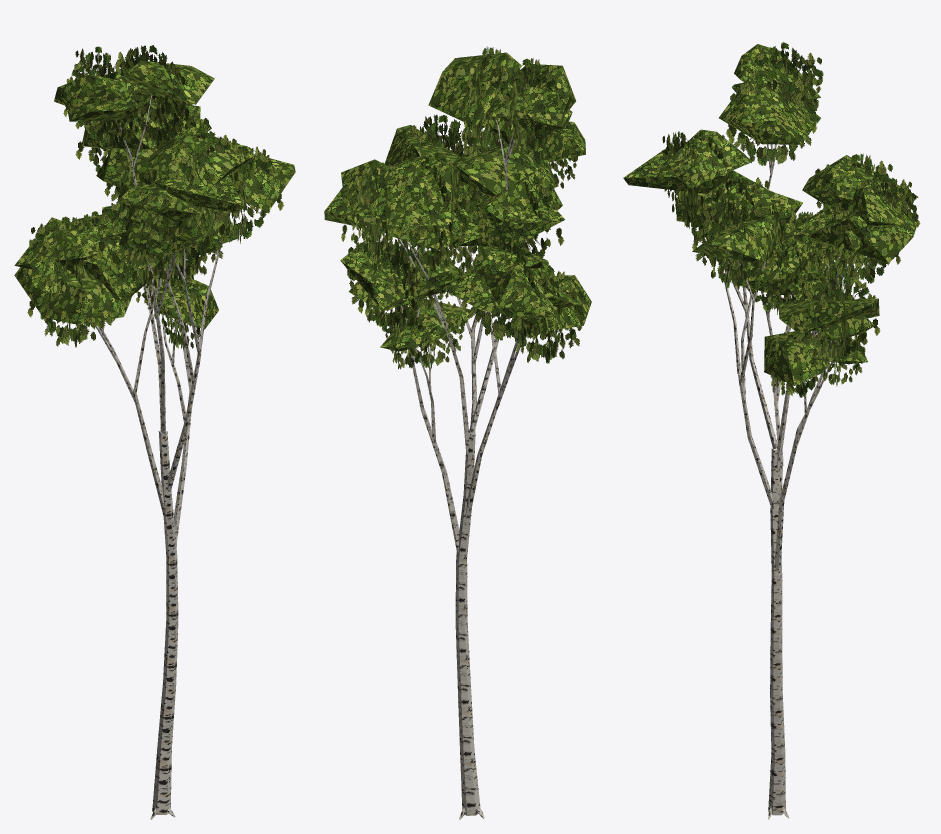
The model's file is TREE_Birch_01.glb.
The picture shows the model from 3 angles, left to right: view 1: azimuth 30°, elevation 25°; view 2: azimuth 150°, elevation 25°; view 3: azimuth 270°, elevation 25°; orthographic projection. The views are drawn at different scales.
Parts seen in each view (by area): view 1: TREE_Birch_01; view 2: TREE_Birch_01; view 3: TREE_Birch_01.
Boxes of the visible parts, x1,y1,x2,y2 form: TREE_Birch_01: (14, 45, 295, 819); TREE_Birch_01: (324, 46, 591, 819); TREE_Birch_01: (623, 42, 920, 819).
Size of the model in its own units: 4.73 by 15.55 by 5.68.
Materials: 3 (3 with a texture image).
